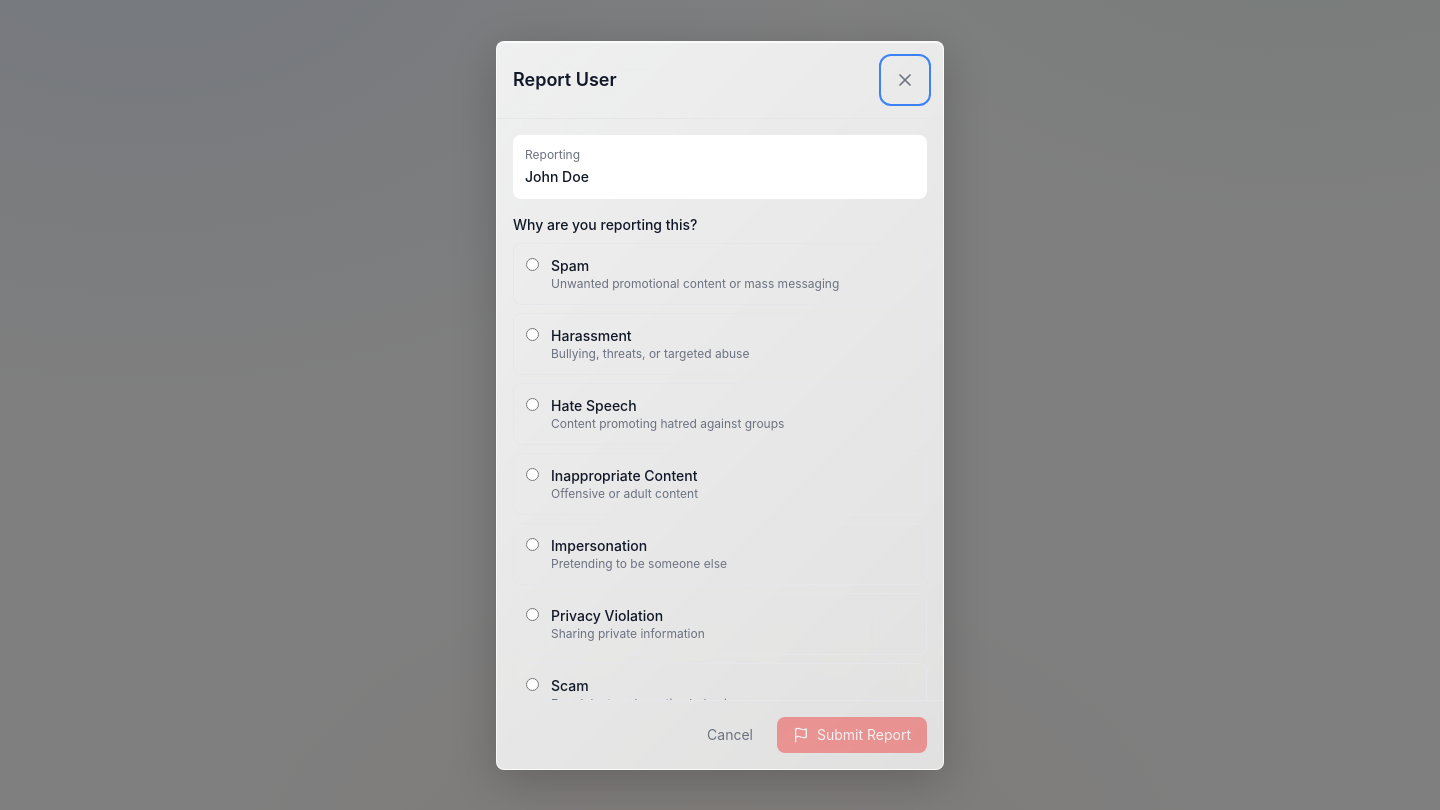
Test: ReportModal › shows success message after submission
// Select reason and submit
Click the text "Spam" at (720, 274), box [513,242,927,304]
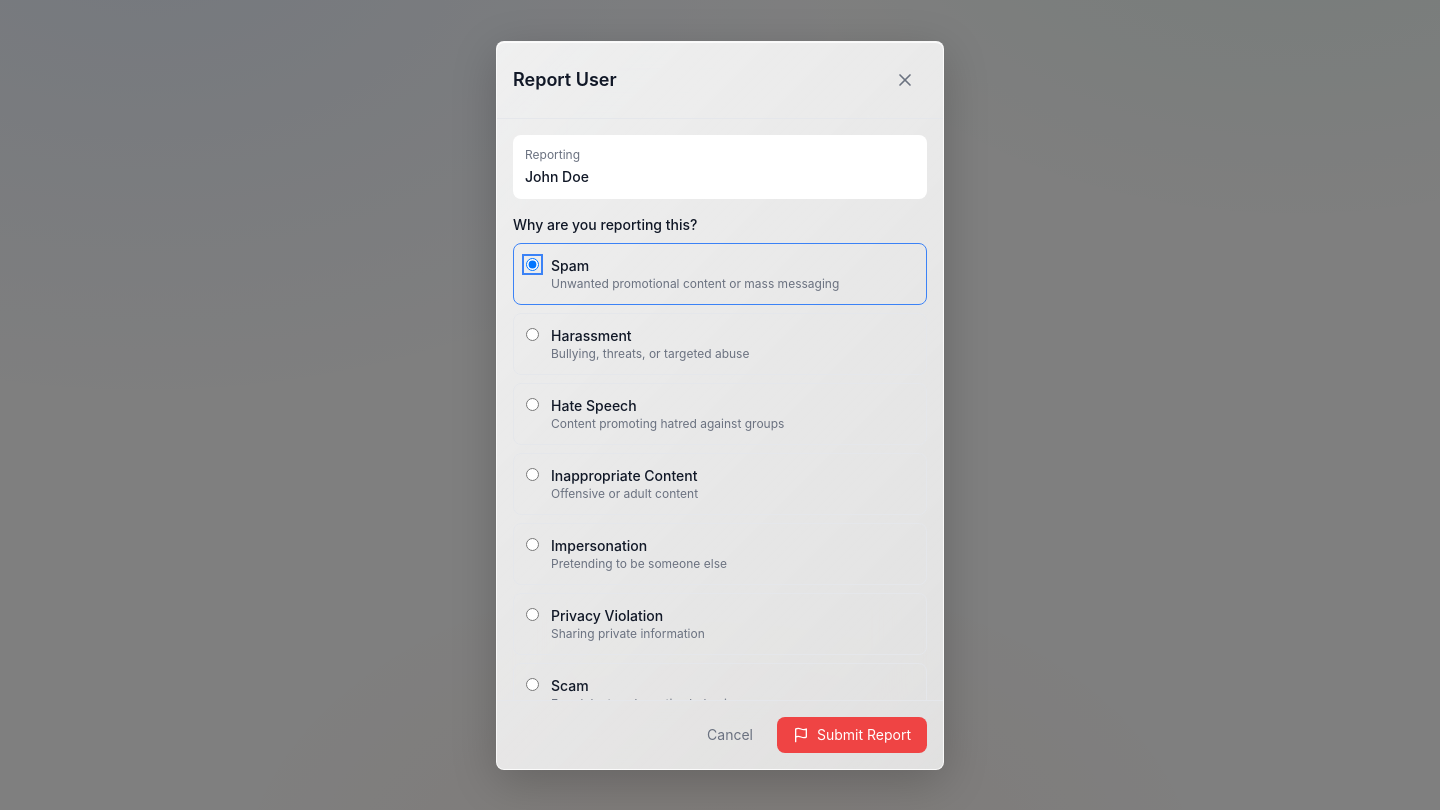
Click the button "Submit Report" at (852, 734), box [777,716,927,752]
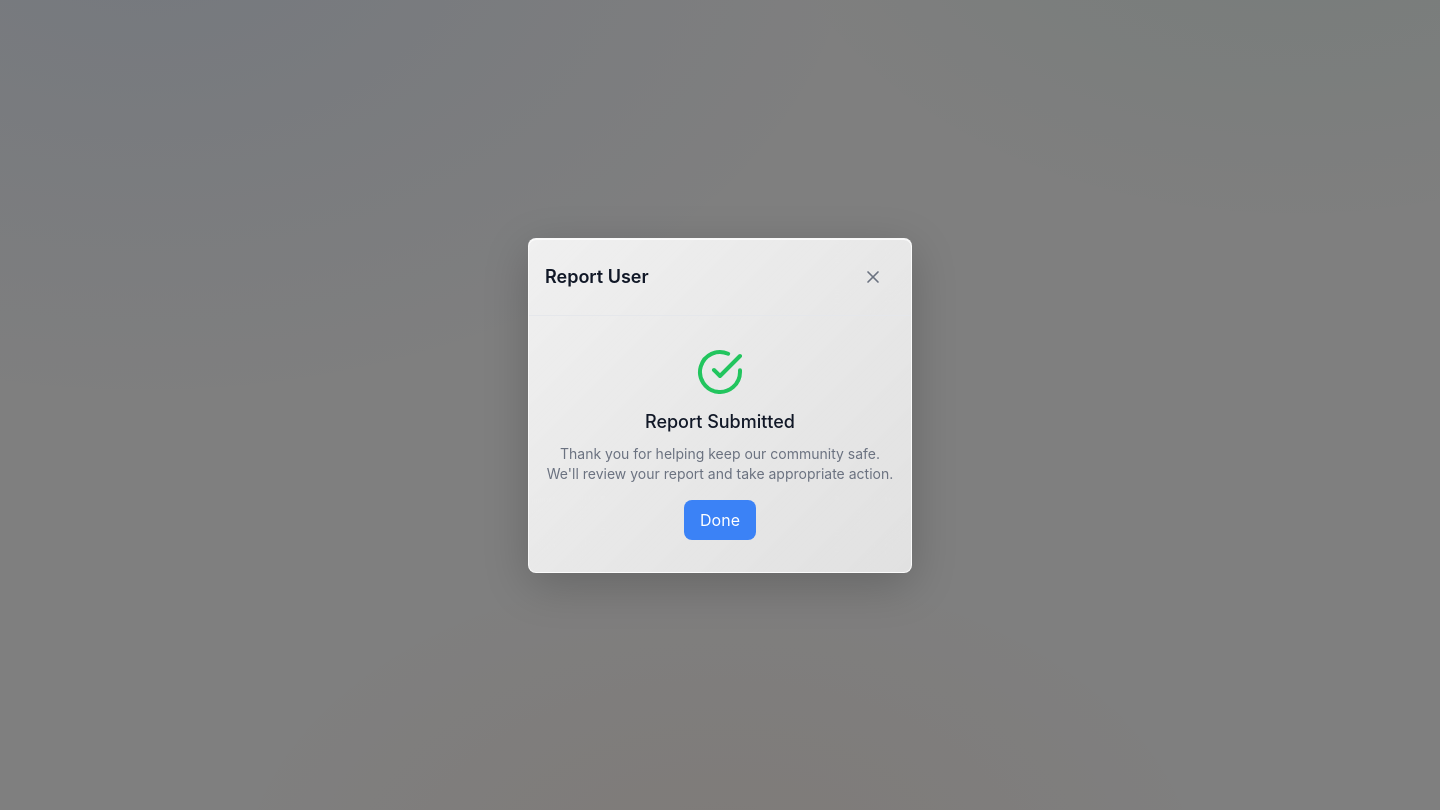
Expected: the heading "Report Submitted" is shown, [645,410,795,432]
Expected: the text "Thank you for helping keep our community safe. We'll review your report and take appropriate action." is shown, [547,444,893,482]
